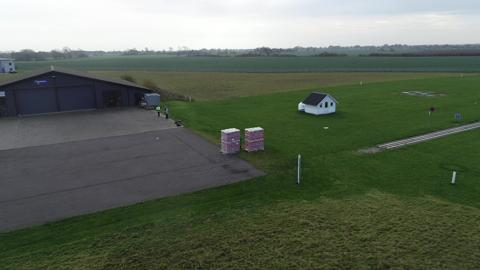RockwoolPallet: (244, 127, 264, 153)
